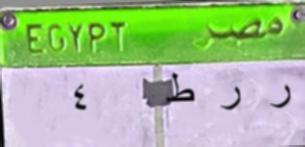4: (71, 79, 90, 114)
Taa: (162, 69, 198, 110)
raa: (267, 82, 293, 117), (220, 82, 243, 114)
